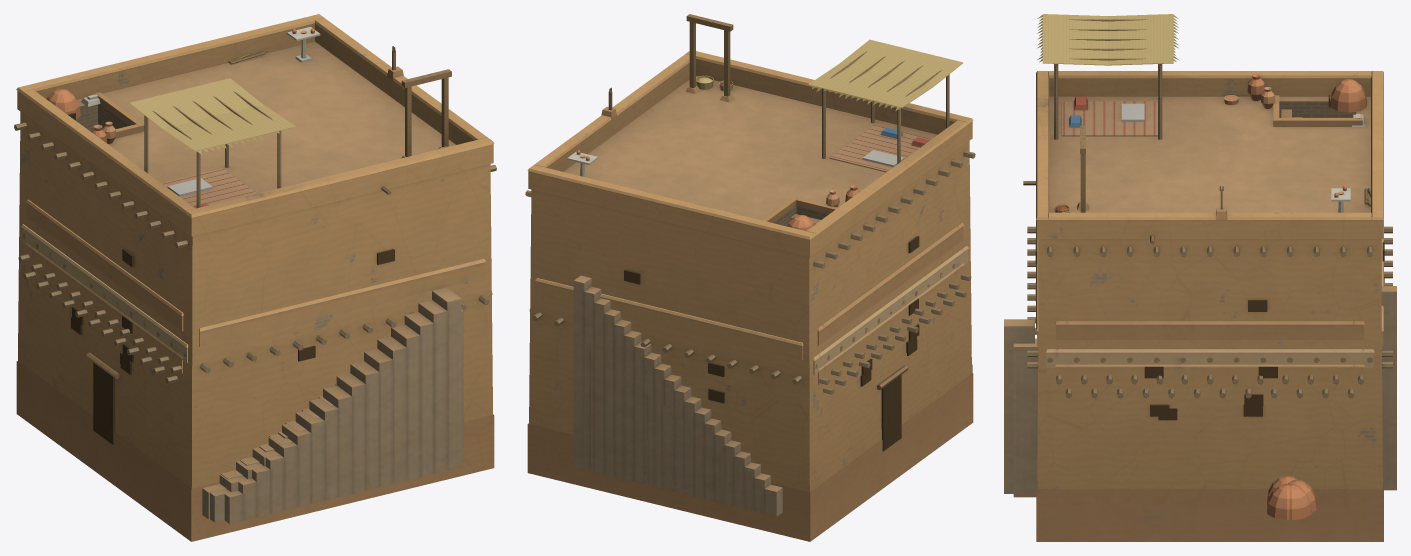
File: egypt_village.glb
3 views of the same model, side by side, from view 1: azimuth 30°, elevation 25°; view 2: azimuth 150°, elevation 25°; view 3: azimuth 270°, elevation 25° (orthographic). The views are drawn at different scales.
Visible parts, largest first — view 1: priest_house, house_0, house_1, house_2, house_6; view 2: priest_house, house_3, house_0, house_1, house_5, house_2, house_6; view 3: priest_house, house_1, house_2, house_6, house_0, house_3.
Boxes of the visible parts, x1,y1,x2,y2 form: priest_house: [14, 14, 496, 541]; house_0: [22, 233, 485, 539]; house_1: [26, 199, 183, 534]; house_2: [18, 224, 492, 537]; house_6: [23, 243, 287, 519]; priest_house: [525, 14, 975, 541]; house_3: [573, 275, 780, 516]; house_0: [535, 264, 955, 539]; house_1: [817, 223, 964, 534]; house_5: [576, 334, 782, 516]; house_2: [529, 246, 972, 538]; house_6: [818, 263, 966, 394]; priest_house: [1023, 14, 1392, 541]; house_1: [1055, 321, 1364, 541]; house_2: [1013, 338, 1374, 541]; house_6: [1055, 364, 1364, 520]; house_0: [1004, 220, 1384, 512]; house_3: [1381, 286, 1396, 490].
Bounding box in the file's own units: 10.5 × 11.02 × 10.2.
2 materials, 2 textured.
